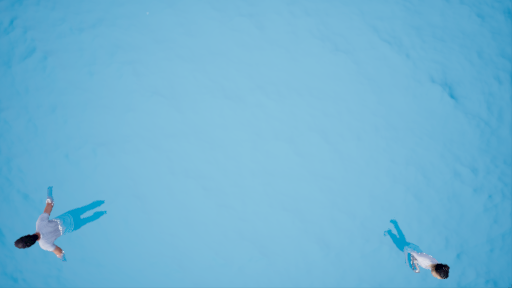person: (9, 183, 113, 264), (387, 213, 459, 288)
